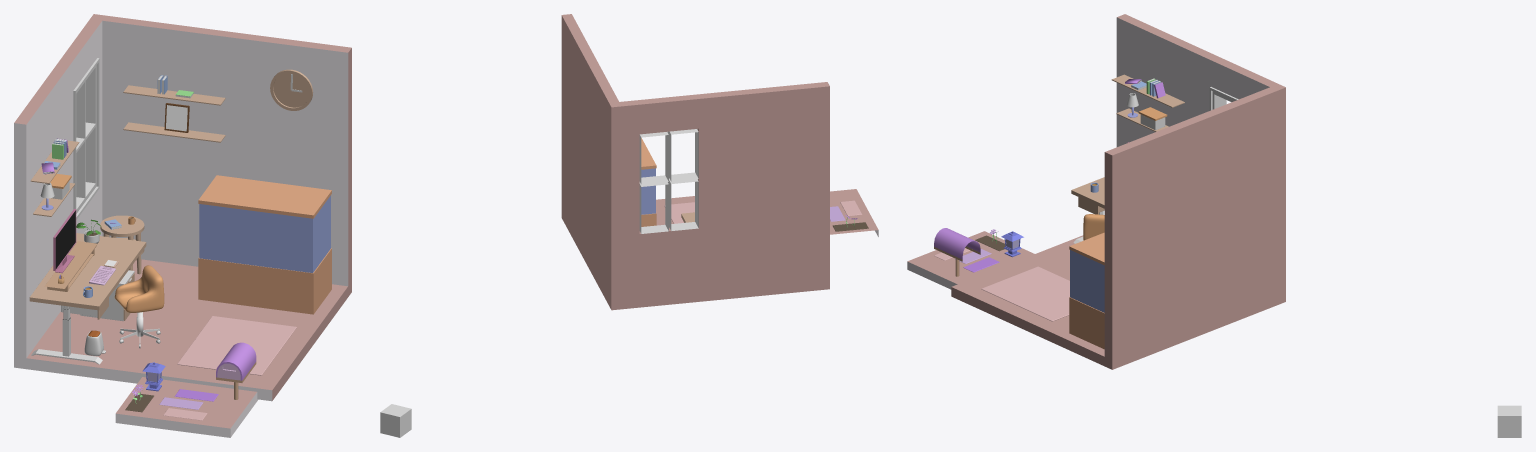
The model's file is Boko_2.glb.
The picture shows the model from 3 angles, left to right: view 1: azimuth 30°, elevation 25°; view 2: azimuth 150°, elevation 25°; view 3: azimuth 270°, elevation 25°; orthographic projection. The views are drawn at different scales.
Parts seen in each view (by area): view 1: Body, Aquarium, Desks, Floor Items, Mini Floor, Shelves, Table Stuff, Chair, Clock, Mailbox, Computer, Lamp (+3 smaller); view 2: Body, Mini Floor, Aquarium, Cube; view 3: Body, Aquarium, Floor Items, Mini Floor, Shelves, Mailbox, Desks, Cube.
Boxes of the visible parts, box(x1,y1,x2,y2) form: Body: box(14, 14, 351, 401); Aquarium: box(198, 175, 331, 314); Desks: box(29, 215, 146, 364); Floor Items: box(80, 270, 296, 375); Mini Floor: box(115, 377, 258, 437); Shelves: box(30, 75, 225, 216); Table Stuff: box(44, 216, 135, 297); Chair: box(114, 265, 164, 312); Clock: box(270, 69, 313, 110); Mailbox: box(216, 342, 256, 399); Computer: box(53, 209, 76, 273); Lamp: box(142, 362, 165, 391); Body: box(561, 14, 829, 310); Mini Floor: box(830, 189, 878, 236); Aquarium: box(641, 138, 656, 226); Cube: box(380, 404, 411, 437); Body: box(951, 14, 1285, 369); Aquarium: box(1069, 232, 1104, 349); Floor Items: box(981, 266, 1069, 321); Mini Floor: box(907, 231, 1034, 289); Shelves: box(1111, 74, 1184, 131); Mailbox: box(934, 228, 980, 276); Desks: box(1071, 177, 1104, 243); Cube: box(1497, 405, 1521, 437).
Size of the model in its own units: 27.58 by 26.25 by 50.63.
